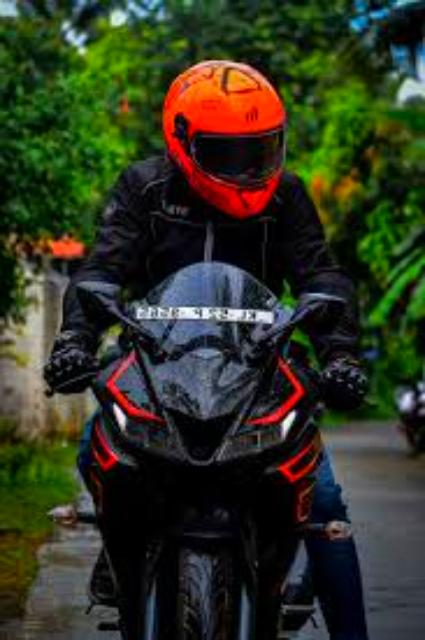helm: (158, 55, 290, 226)
motor: (33, 258, 373, 640)
